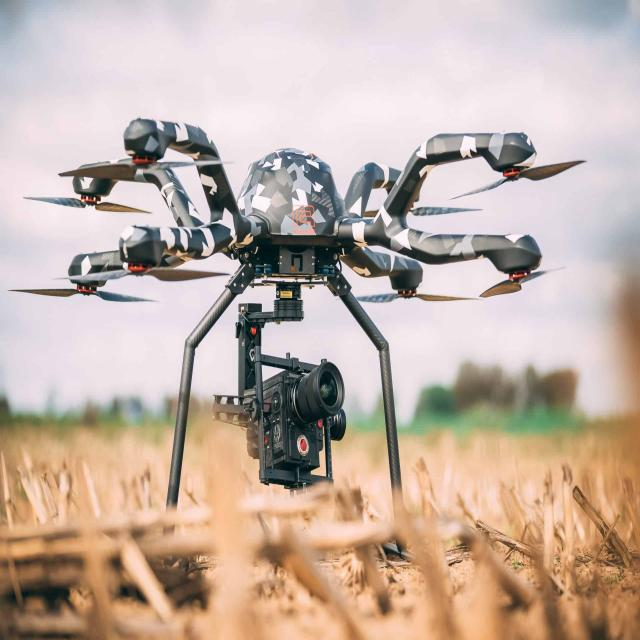drone: (34, 55, 588, 546)
